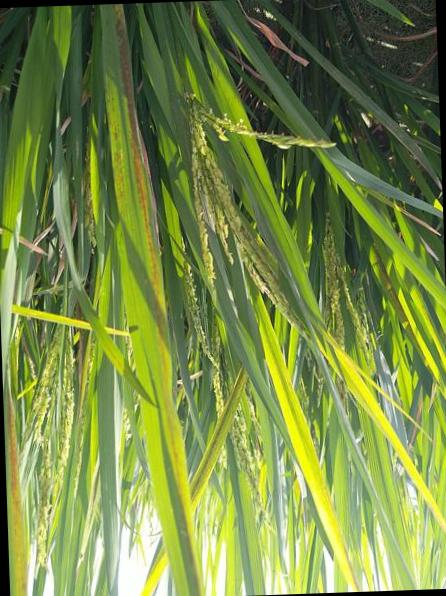Leaf Streak: (112, 3, 200, 596), (189, 365, 248, 501), (7, 398, 28, 596), (373, 243, 411, 332), (109, 127, 125, 196)
